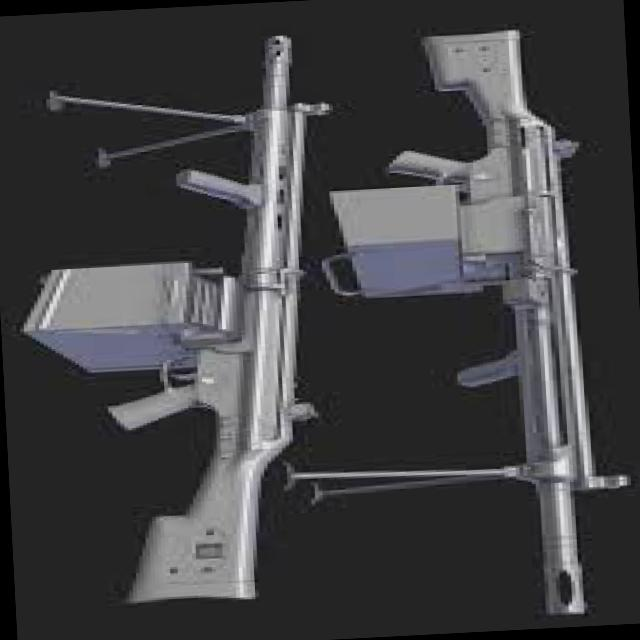long weapon: (296, 24, 639, 576), (39, 23, 375, 572)
